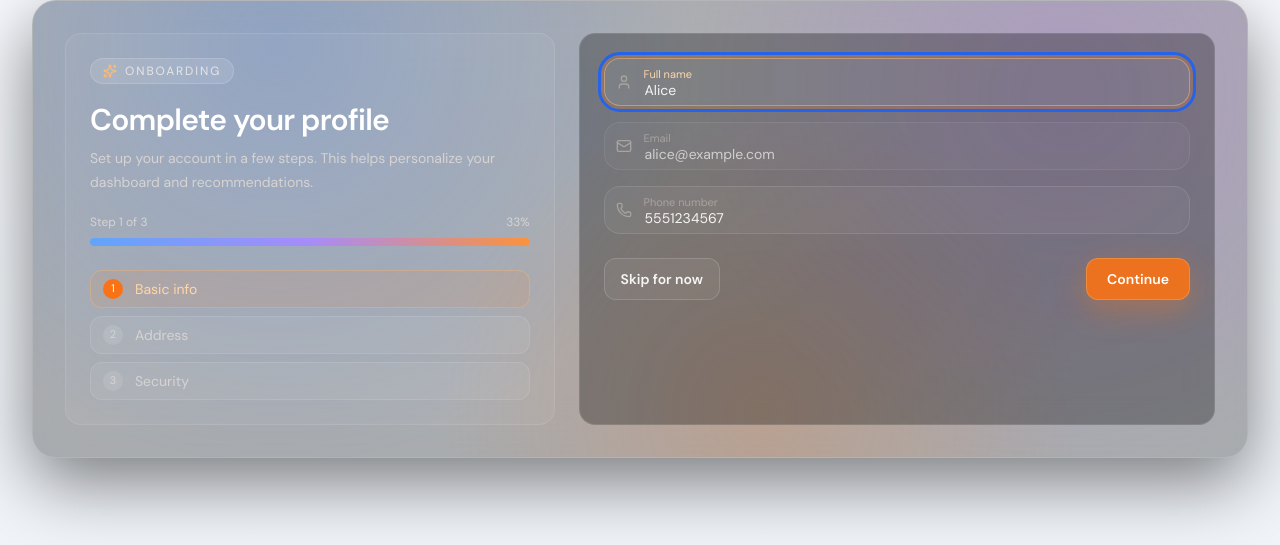
Scenario: ProfilePage › shows error when updateProfile fails
Step 1. Click the button "Continue" → {"x": 1138, "y": 279}, box [1086,258,1190,300]
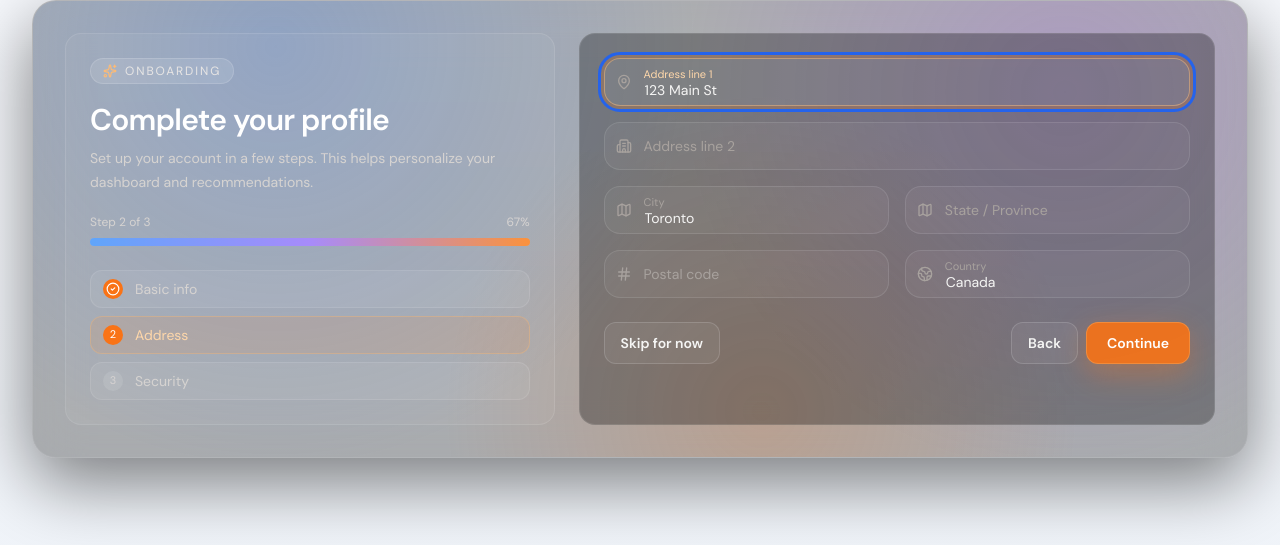
Step 2. Click the button "Continue" → {"x": 1138, "y": 343}, box [1086,322,1190,364]
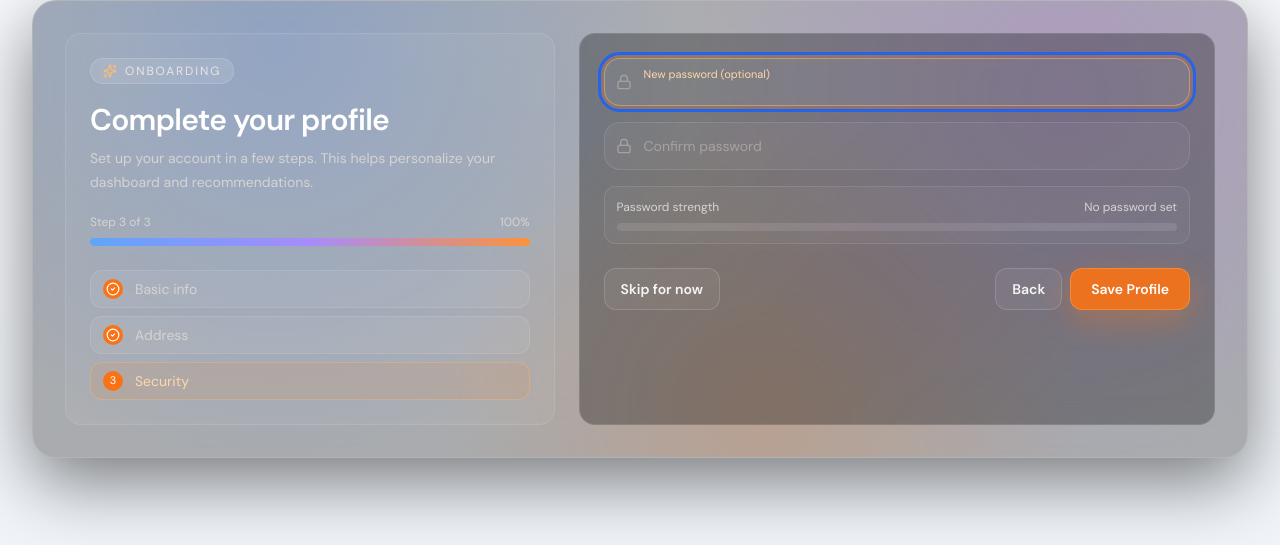
Check: the button "Save Profile" is shown
Step 3. Click the button "Save Profile" → {"x": 1130, "y": 289}, box [1070,268,1190,310]
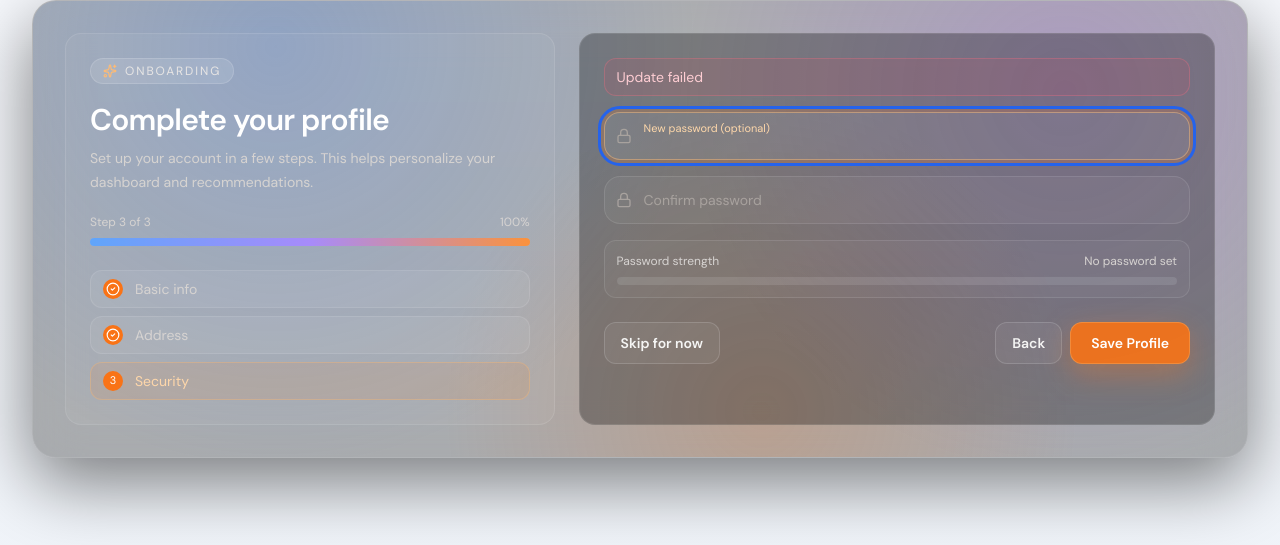
Check: the text "Update failed" is shown, box [604,58,1190,96]
